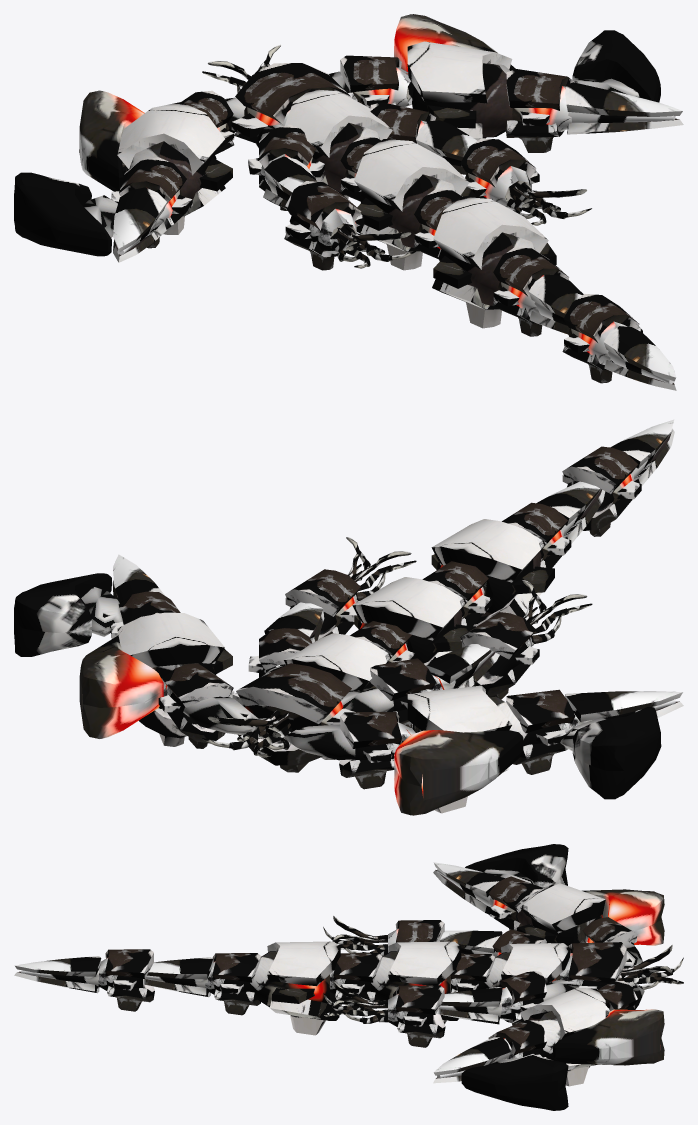
The model's file is Pious.fbx.
3 renders of one model, top to bottom at view 1: azimuth 30°, elevation 25°; view 2: azimuth 150°, elevation 25°; view 3: azimuth 270°, elevation 25°, orthographic. The views are drawn at different scales.
Visible parts, largest first — view 1: 00_Core, 04_ClawRight, 05_ClawLeft, 07_Tail, 03_ArmLeft, 02_ArmRight, 01_Head, 06_TailEnd, 11_HipLeft, 08_HipRight, 09_ChestLeft, 10_ChestRight; view 2: 01_Head, 00_Core, 03_ArmLeft, 05_ClawLeft, 02_ArmRight, 04_ClawRight, 07_Tail, 06_TailEnd, 11_HipLeft, 09_ChestLeft, 08_HipRight, 10_ChestRight; view 3: 00_Core, 07_Tail, 02_ArmRight, 04_ClawRight, 06_TailEnd, 03_ArmLeft, 05_ClawLeft, 01_Head, 08_HipRight, 10_ChestRight, 11_HipLeft, 09_ChestLeft.
Part boxes in pixels (<box>): 00_Core: <box>231,89,477,270</box>; 04_ClawRight: <box>505,30,683,152</box>; 05_ClawLeft: <box>14,157,192,262</box>; 07_Tail: <box>432,197,569,336</box>; 03_ArmLeft: <box>79,90,232,234</box>; 02_ArmRight: <box>394,14,515,140</box>; 01_Head: <box>181,44,413,154</box>; 06_TailEnd: <box>528,274,676,390</box>; 11_HipLeft: <box>284,181,415,270</box>; 08_HipRight: <box>460,138,591,225</box>; 09_ChestLeft: <box>248,124,316,210</box>; 10_ChestRight: <box>370,102,476,174</box>; 01_Head: <box>158,663,415,789</box>; 00_Core: <box>232,561,492,759</box>; 03_ArmLeft: <box>394,685,528,815</box>; 05_ClawLeft: <box>506,689,683,799</box>; 02_ArmRight: <box>79,612,232,746</box>; 04_ClawRight: <box>14,554,180,656</box>; 07_Tail: <box>431,502,571,626</box>; 06_TailEnd: <box>536,419,674,543</box>; 11_HipLeft: <box>460,580,592,699</box>; 09_ChestLeft: <box>370,644,499,728</box>; 08_HipRight: <box>285,537,416,639</box>; 10_ChestRight: <box>248,602,324,677</box>; 00_Core: <box>330,941,607,1024</box>; 07_Tail: <box>205,941,341,1035</box>; 02_ArmRight: <box>517,987,664,1086</box>; 04_ClawRight: <box>433,1020,568,1110</box>; 06_TailEnd: <box>14,949,212,1011</box>; 03_ArmLeft: <box>517,883,664,946</box>; 05_ClawLeft: <box>433,844,568,930</box>; 01_Head: <box>568,917,683,1017</box>; 08_HipRight: <box>323,981,445,1047</box>; 10_ChestRight: <box>436,971,546,1025</box>; 11_HipLeft: <box>323,916,444,956</box>; 09_ChestLeft: <box>440,929,546,957</box>.
Bounding box in the file's own units: 5458 × 964 × 6754.
Materials: 1 (1 with a texture image).
